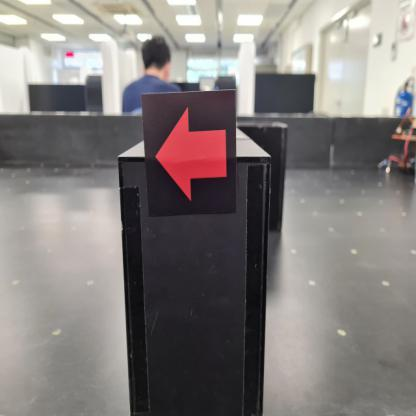left: (140, 88, 238, 217)
